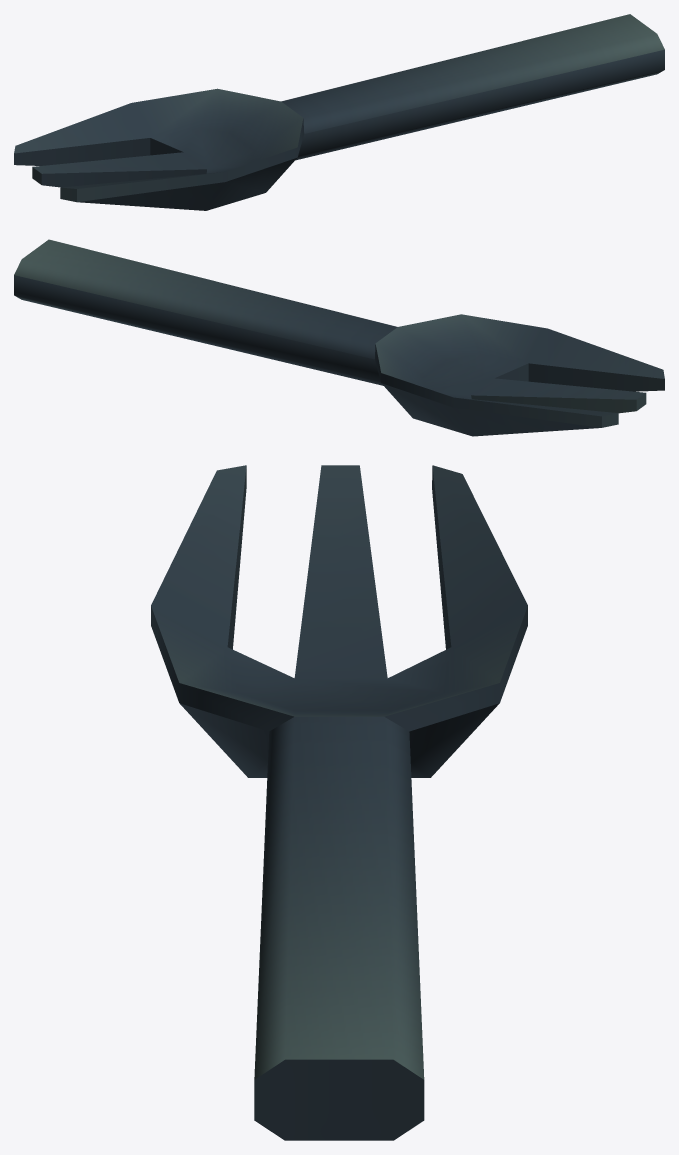
Rendered from fork_cuttlery_metal.fbx.
3 renders of one model, top to bottom at view 1: azimuth 30°, elevation 25°; view 2: azimuth 150°, elevation 25°; view 3: azimuth 270°, elevation 25°, orthographic. The views are drawn at different scales.
Parts seen in each view (by area): view 1: fork_cuttlery_metal; view 2: fork_cuttlery_metal; view 3: fork_cuttlery_metal.
Part boxes in pixels (x1,y1,x2,y2): fork_cuttlery_metal: (14,14,664,210); fork_cuttlery_metal: (14,239,664,436); fork_cuttlery_metal: (151,465,527,1140).
Bounding box in the file's own units: 35.39 × 3.68 × 9.53.
